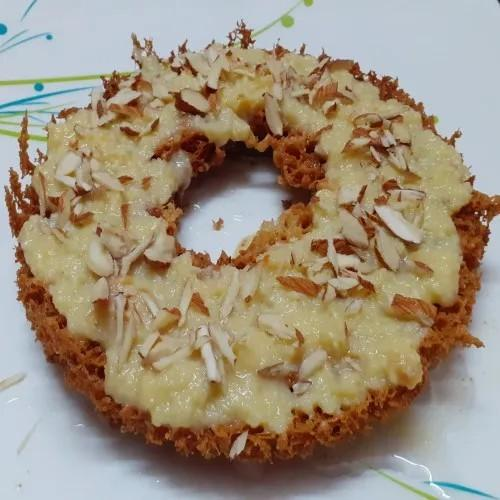Ghevar: (5, 20, 500, 465)
